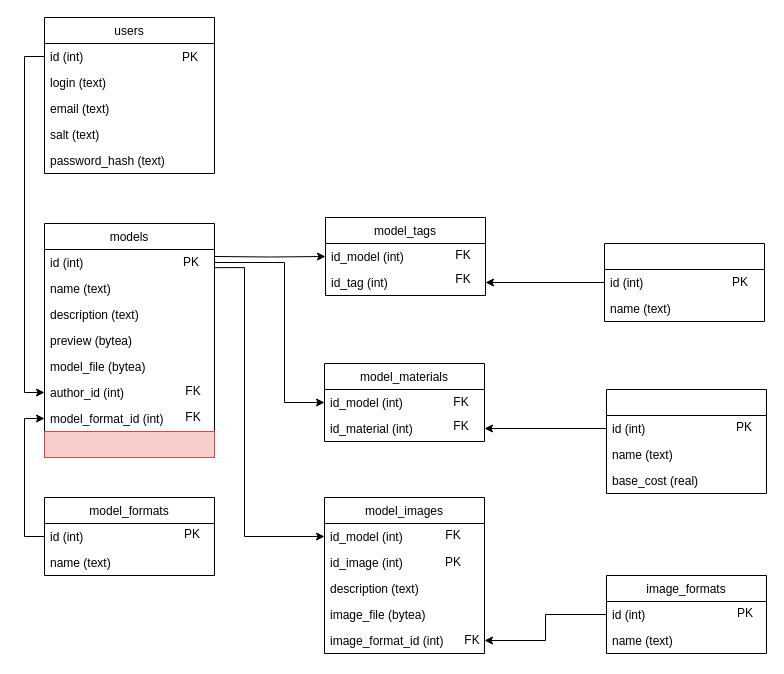
Image size: 784x674. Some labels were removed from this diagram. Each missing label, with the box of its shape:
cost (real): (44, 430, 214, 458)
material_types: (606, 388, 766, 494)
tags: (604, 242, 764, 322)
